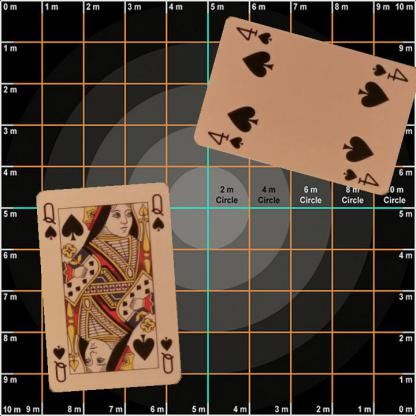4s: (370, 61, 411, 83), (205, 128, 245, 150)
Qs: (158, 334, 176, 376), (40, 200, 58, 241)
